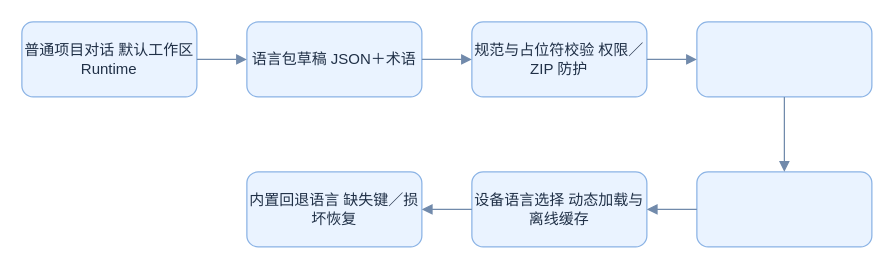
This 894x269 diagram has some shape labels left out. Here are the shapes that lost their labels. From the top down, the centre of each, then its label:
At point 784,59: "原子安装 不可变版本快照".
At point 784,209: "PC／手机隔离预览 显式确认应用".
